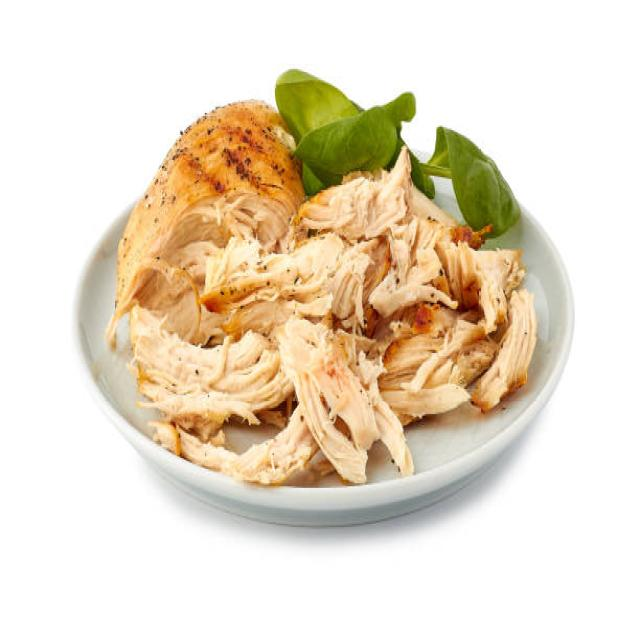Frango: (111, 93, 541, 486)
